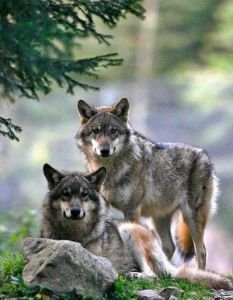wolf: (40, 161, 178, 275), (73, 95, 221, 181)
